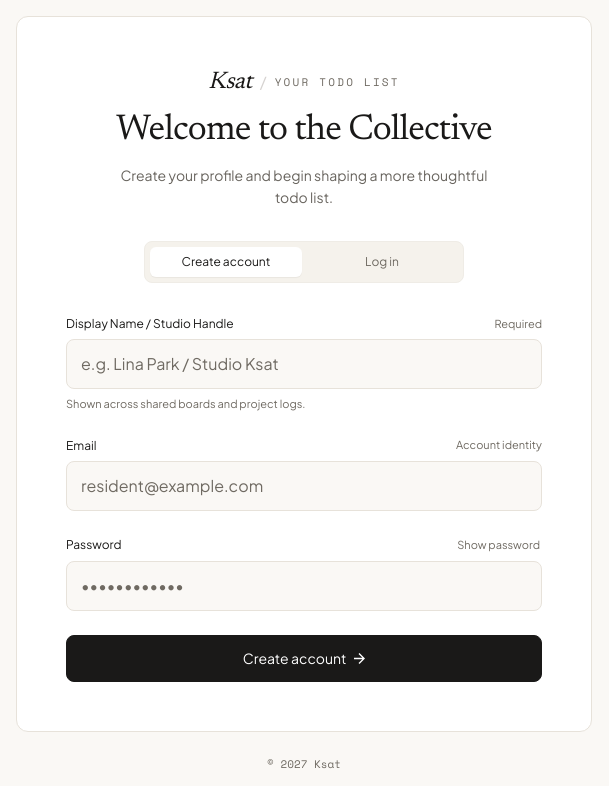
Test: AuthScreen › disables the form while a request is pending
Step 1. Type "Ada Lovelace" into the field labelled "Display Name / Studio Handle" → [304, 364], box [66, 339, 542, 389]
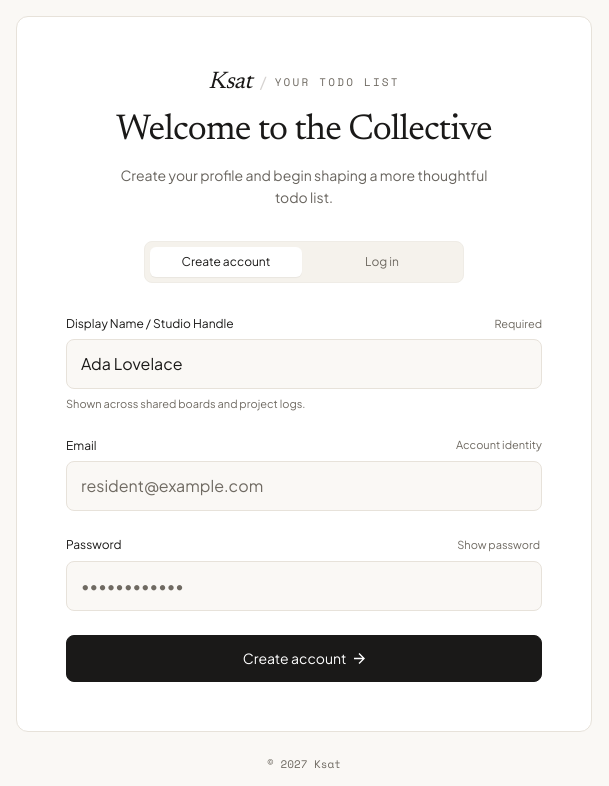
Step 2. Type " ADA@EXAMPLE.TEST " into the field labelled "Email" → [304, 486], box [66, 461, 542, 511]
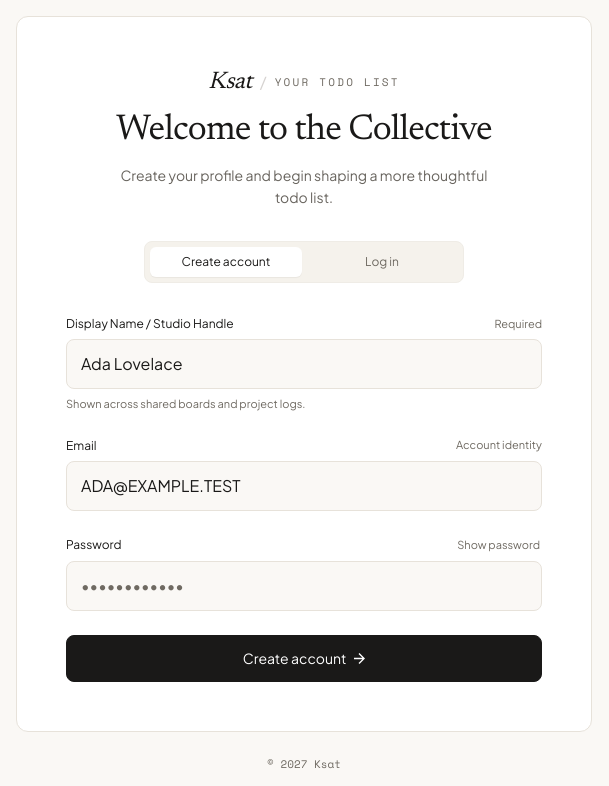
Step 3. Type "a secure password" into the password field labelled "Password" → [304, 586], box [66, 561, 542, 611]
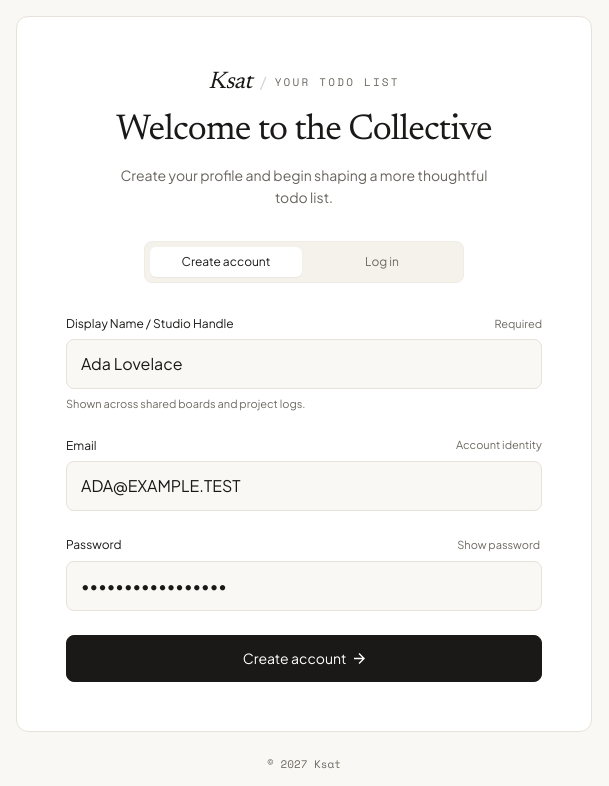
Step 4. Click the button "Create account" → [304, 659], box [66, 635, 542, 682]
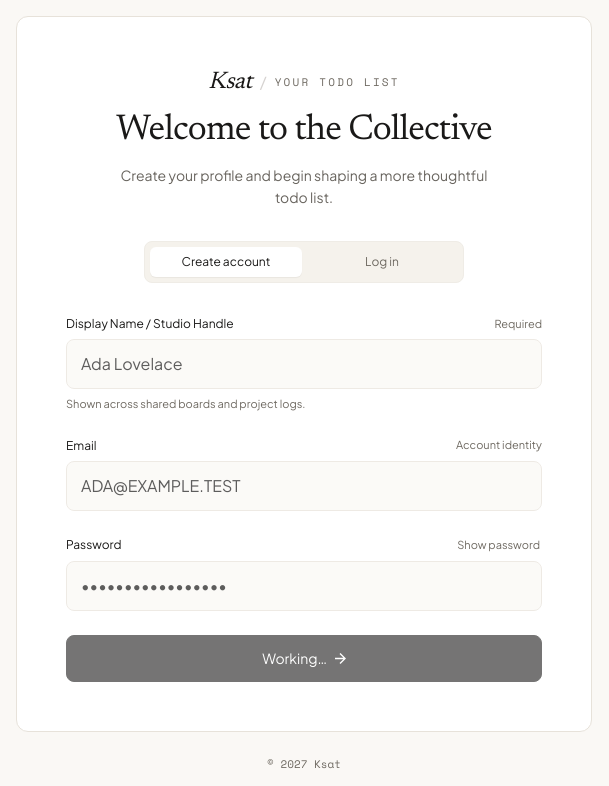
Expected: the button "Working…" is disabled, [66, 635, 542, 682]
